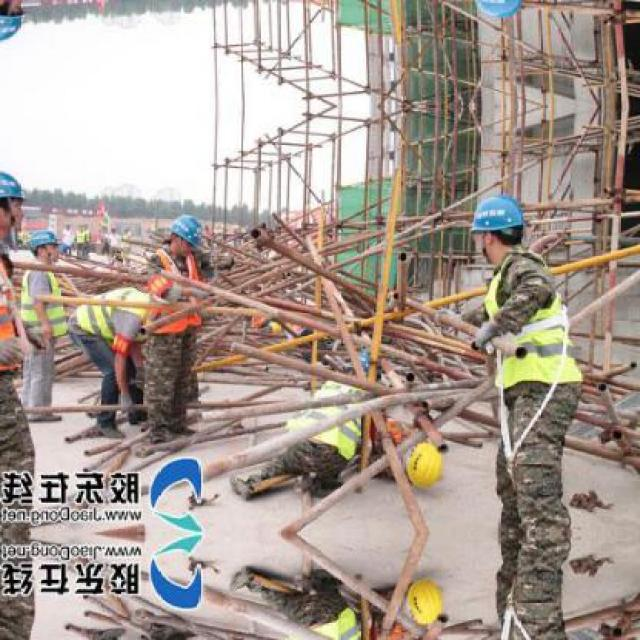Reflective-Jacket: (476, 246, 590, 400), (277, 376, 385, 472), (74, 279, 160, 370), (139, 244, 206, 350), (18, 262, 71, 341)
Safety-Helmet: (460, 186, 535, 244), (398, 438, 451, 495), (400, 576, 444, 630), (163, 208, 211, 255), (0, 168, 31, 210), (24, 224, 64, 256)
